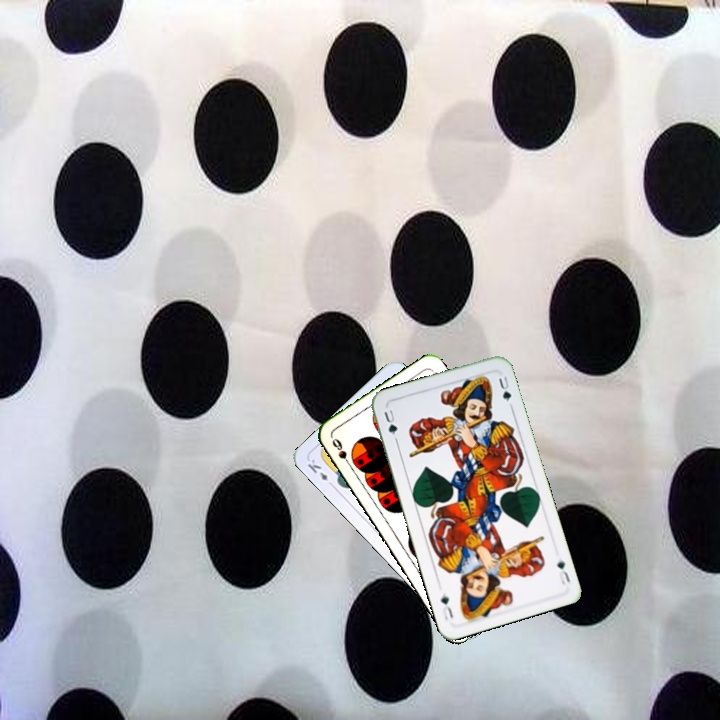EK: (303, 455, 337, 490)
GU: (380, 405, 400, 438), (553, 556, 573, 588)
S9: (328, 434, 354, 470)
